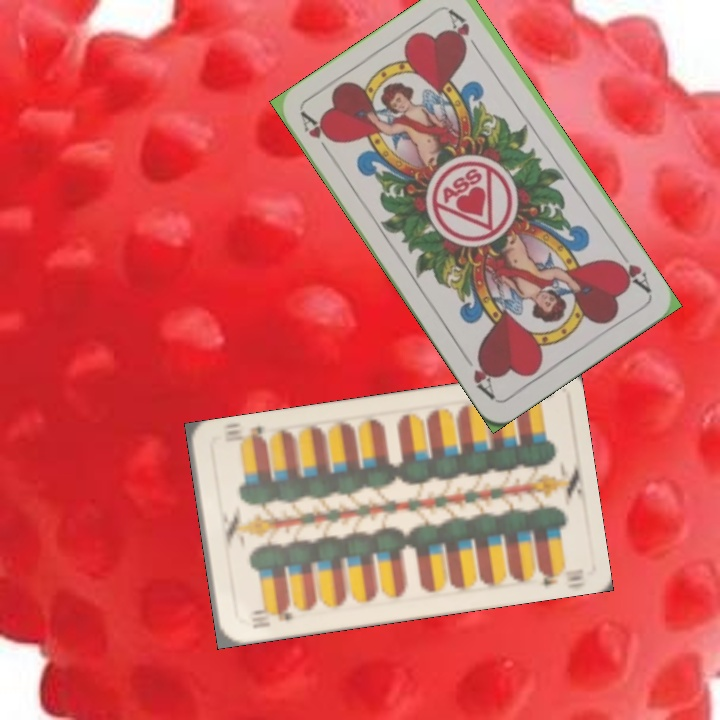E10: (247, 602, 296, 631)
HA: (609, 245, 654, 296), (296, 108, 338, 161)
